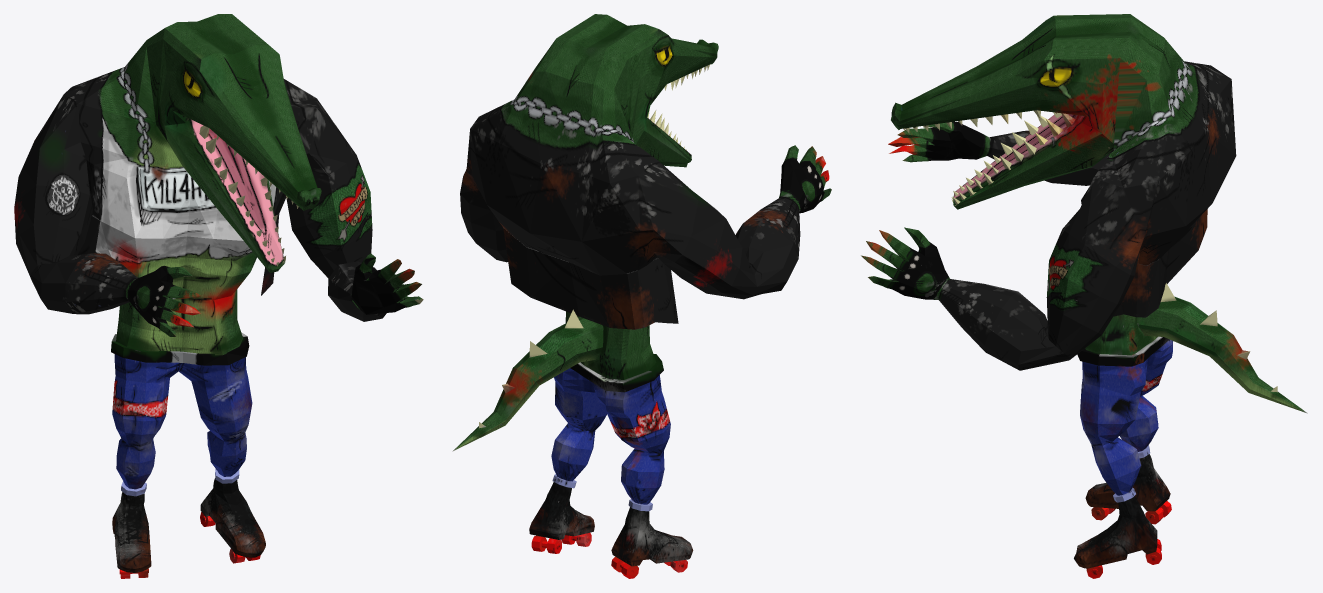
File: cocodrilaBonesSelect_000016.obj
3 views of the same model, side by side, from view 1: azimuth 30°, elevation 25°; view 2: azimuth 150°, elevation 25°; view 3: azimuth 270°, elevation 25° (orthographic). The views are drawn at different scales.
Visible parts, largest first — view 1: Crocodile.002_Cylinder.002; view 2: Crocodile.002_Cylinder.002; view 3: Crocodile.002_Cylinder.002.
Boxes of the visible parts, x1,y1,x2,y2 form: Crocodile.002_Cylinder.002: (14, 14, 423, 578); Crocodile.002_Cylinder.002: (452, 14, 831, 578); Crocodile.002_Cylinder.002: (861, 14, 1307, 578).
Size of the model in its own units: 4.26 by 6.73 by 5.14.
